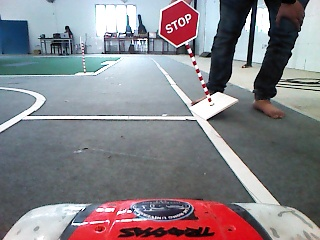stop: (157, 1, 202, 50)
